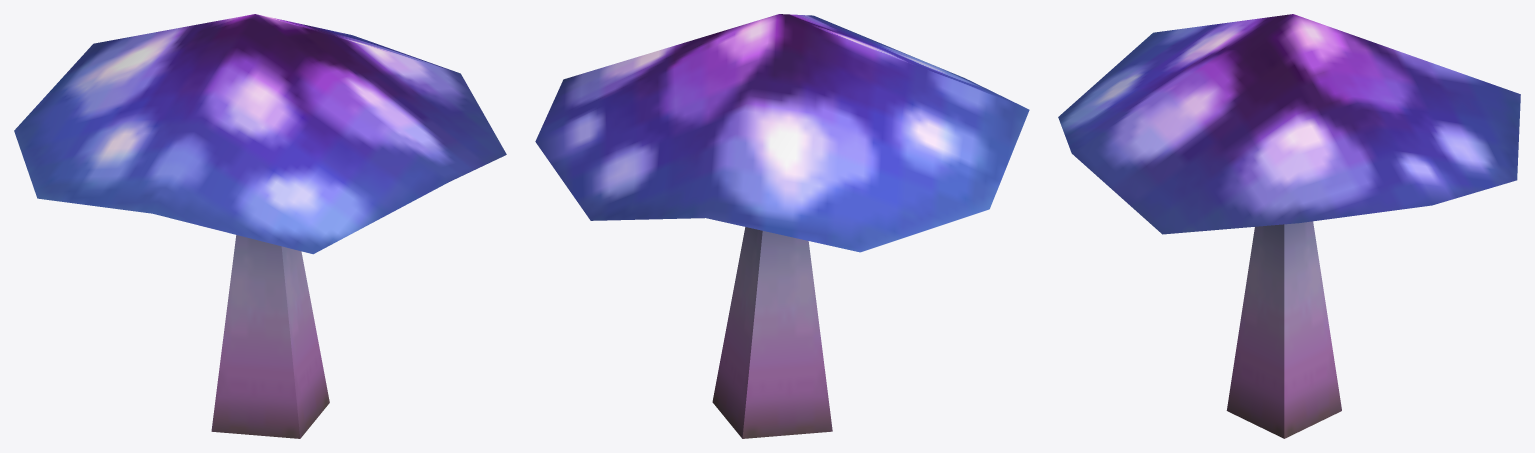
The model's file is 6001_Item_mogu_4.FBX.
The picture shows the model from 3 angles, left to right: view 1: azimuth 30°, elevation 25°; view 2: azimuth 150°, elevation 25°; view 3: azimuth 270°, elevation 25°; orthographic projection. The views are drawn at different scales.
Parts seen in each view (by area): view 1: 6001_Item_mogu_4; view 2: 6001_Item_mogu_4; view 3: 6001_Item_mogu_4.
Boxes of the visible parts, x1,y1,x2,y2 form: 6001_Item_mogu_4: (14, 14, 506, 438); 6001_Item_mogu_4: (535, 14, 1029, 438); 6001_Item_mogu_4: (1058, 14, 1520, 438).
Bounding box in the file's own units: 612 × 559 × 598.
